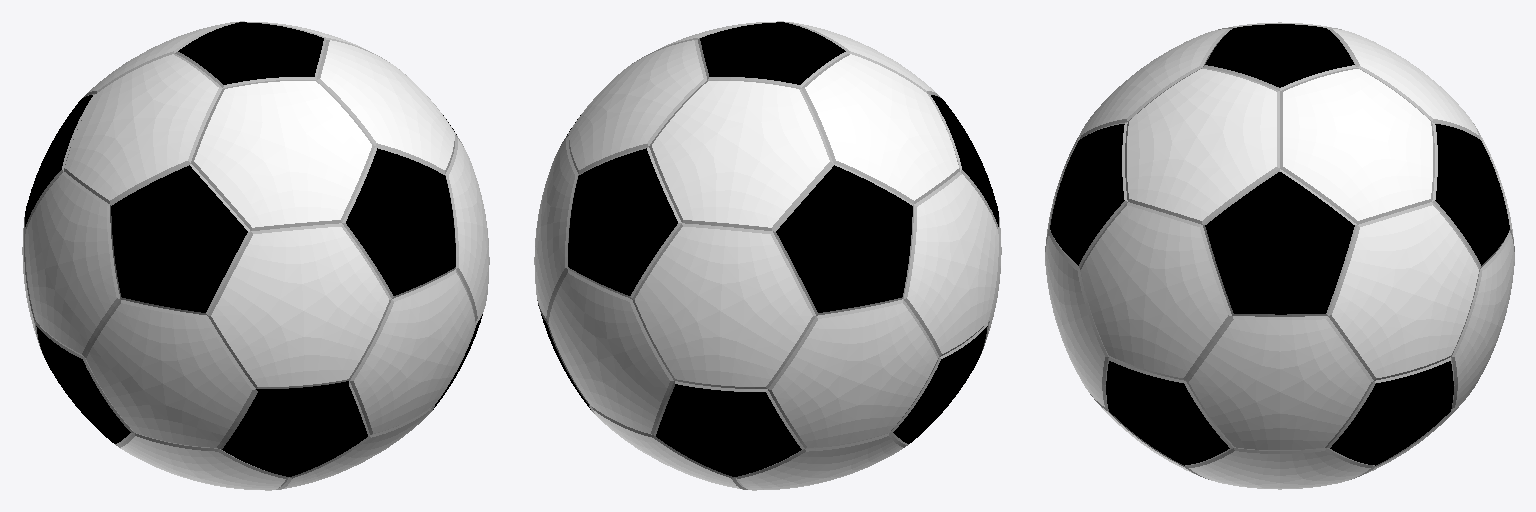
3 views of the same model, side by side, from view 1: azimuth 30°, elevation 25°; view 2: azimuth 150°, elevation 25°; view 3: azimuth 270°, elevation 25° (orthographic).
Visible parts, largest first — view 1: Icosphere.001; view 2: Icosphere.001; view 3: Icosphere.001.
Boxes of the visible parts, x1,y1,x2,y2 form: Icosphere.001: [22, 21, 489, 490]; Icosphere.001: [534, 21, 1001, 490]; Icosphere.001: [1045, 22, 1514, 489].
Size of the model in its own units: 1 by 1 by 1.01.
Materials: 1 (1 with a texture image).